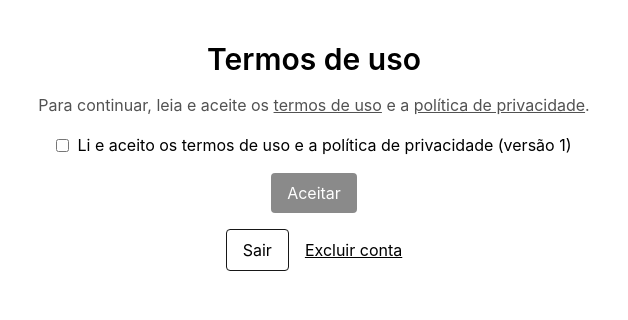
AceiteDosTermos › d) 400 termos_desatualizados mostra o texto da §5 em role=alert
The width and height of the screenshot is (628, 320).
Click the checkbox.
click(63, 145)  # box top-left (56, 138), bottom-right (70, 152)
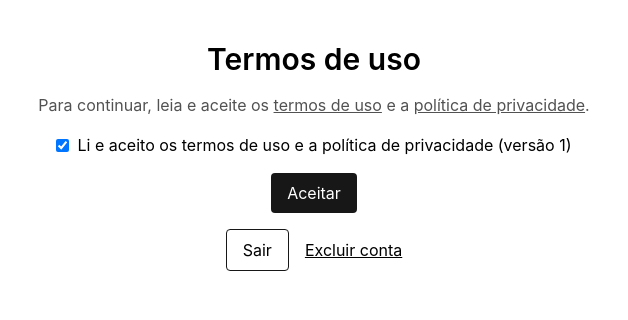
Click the button "Aceitar".
click(314, 193)  # box top-left (271, 173), bottom-right (357, 213)
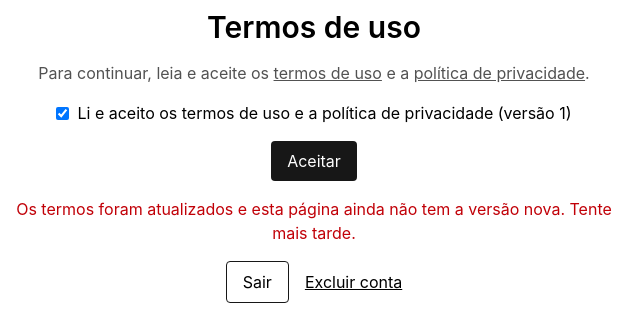
Expected: the message shows "Os termos foram atualizados e esta página ainda não tem a versão nova. Tente mais tarde.", top-left (16, 199), bottom-right (612, 243)
